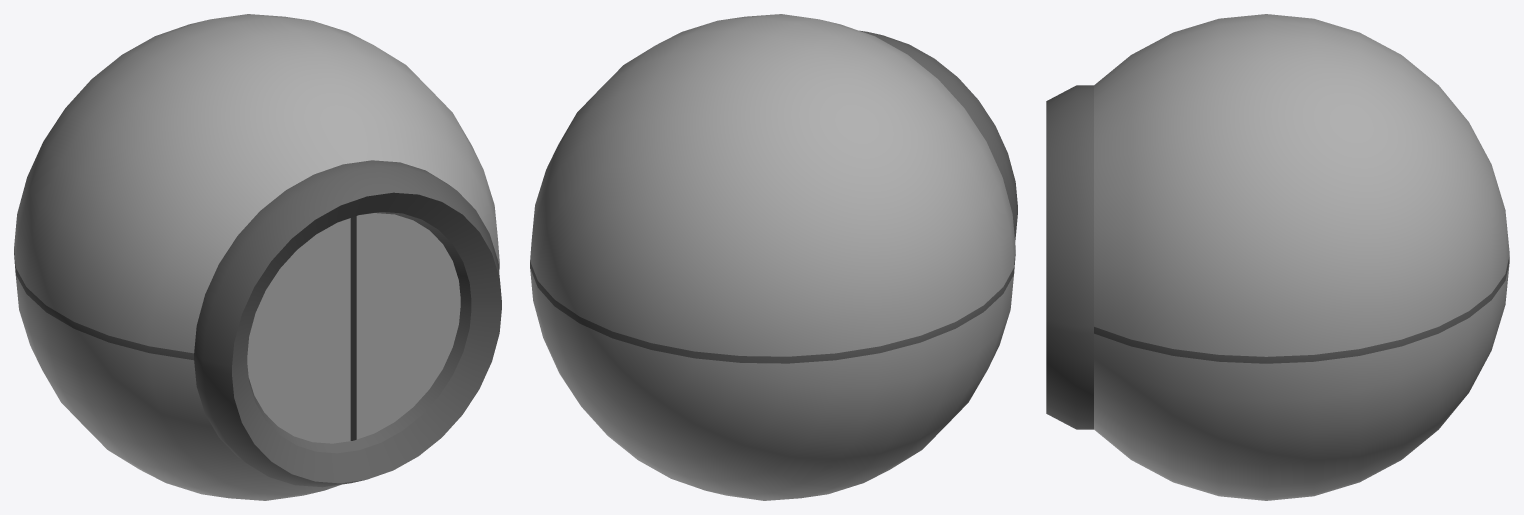
Rendered from house_single.glb.
The picture shows the model from 3 angles, left to right: view 1: azimuth 30°, elevation 25°; view 2: azimuth 150°, elevation 25°; view 3: azimuth 270°, elevation 25°; orthographic projection.
Parts seen in each view (by area): view 1: House_Single; view 2: House_Single; view 3: House_Single.
Part boxes in pixels (left/top/right/bottom): House_Single: left=14, top=14, right=501, bottom=500; House_Single: left=530, top=14, right=1017, bottom=500; House_Single: left=1046, top=14, right=1509, bottom=500.
Size of the model in its own units: 3.99 by 4 by 3.8.
Materials: 1 (1 with a texture image).
